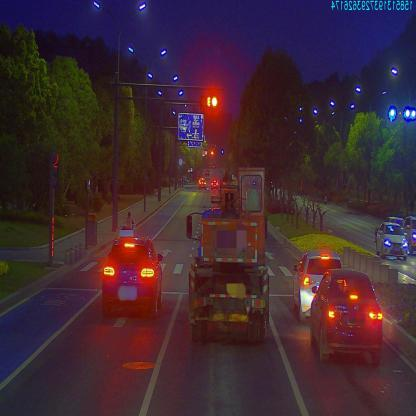traffic-light: (204, 91, 222, 113)
